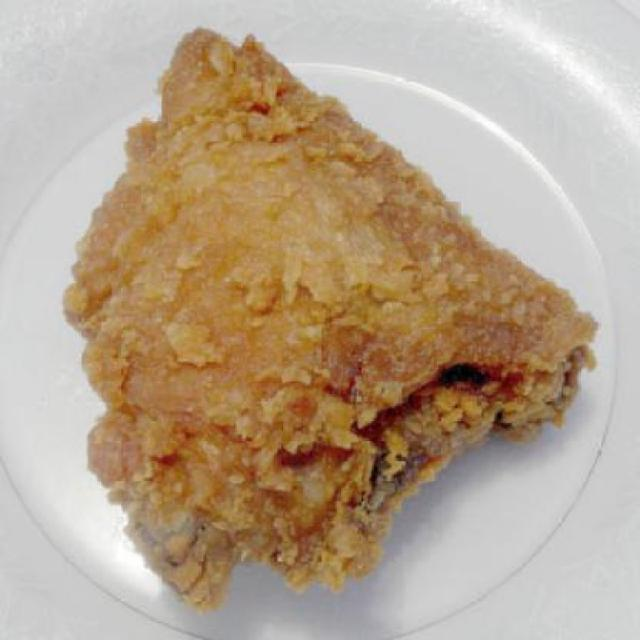Frango: (67, 54, 559, 523)
